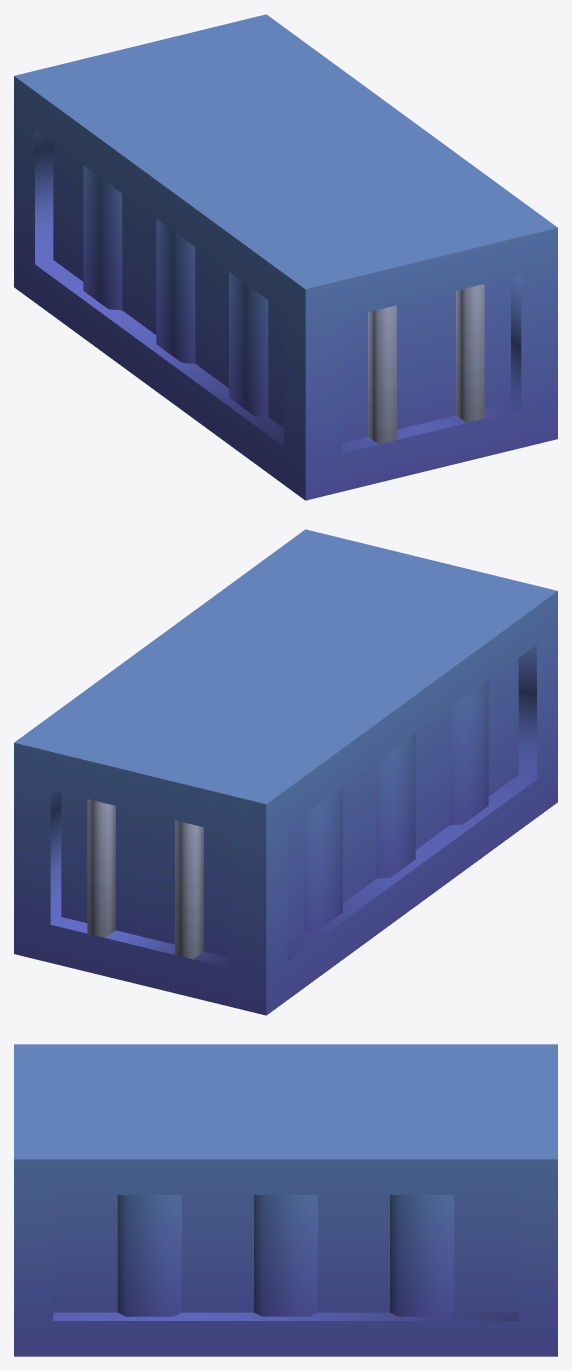
Rendered from k-watercraft-cargo-container-b.glb.
3 views of the same model, one above another, from view 1: azimuth 30°, elevation 25°; view 2: azimuth 150°, elevation 25°; view 3: azimuth 270°, elevation 25° (orthographic). The views are drawn at different scales.
Visible parts, largest first — view 1: cargo-container-b; view 2: cargo-container-b; view 3: cargo-container-b.
Boxes of the visible parts, x1,y1,x2,y2 form: cargo-container-b: (14, 14, 557, 500); cargo-container-b: (14, 529, 557, 1015); cargo-container-b: (14, 1044, 557, 1356).
Size of the model in its own units: 1.38 by 1.1 by 2.76.
1 material, 1 textured.
